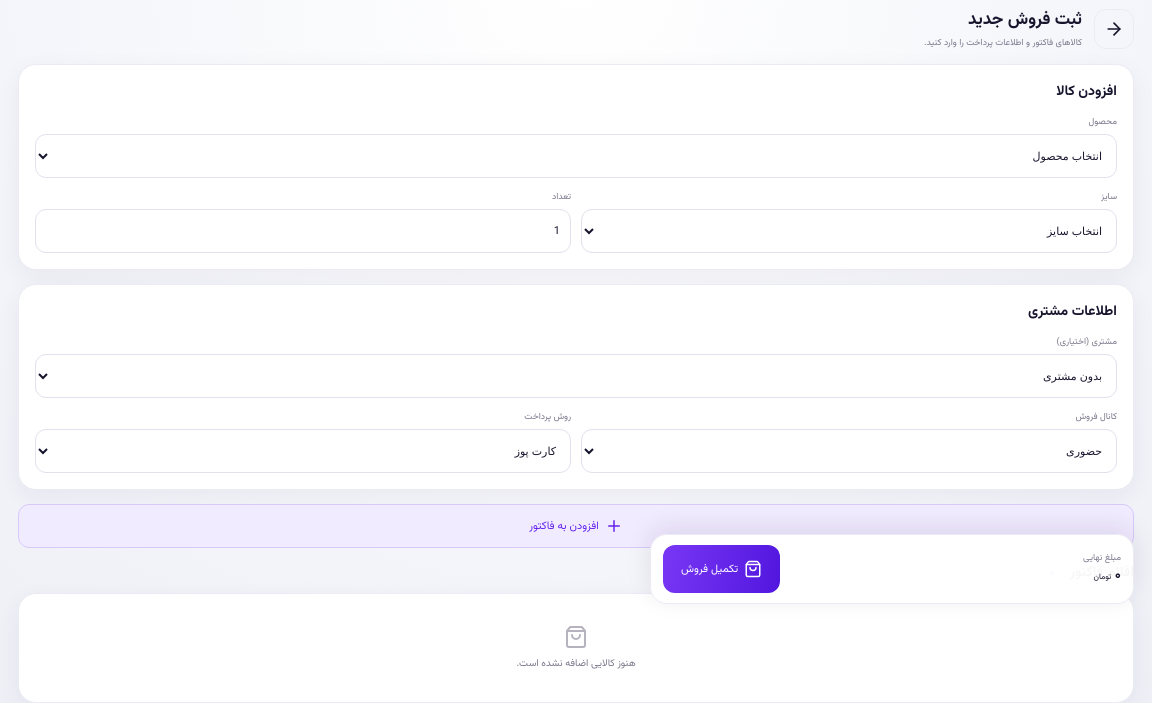
dashboard, sales, and reports UI › shows the entered discount in Persian words
Step 1. Select "Air Max" in the dropdown labelled "محصول" → (576, 156), box [35,134,1117,178]
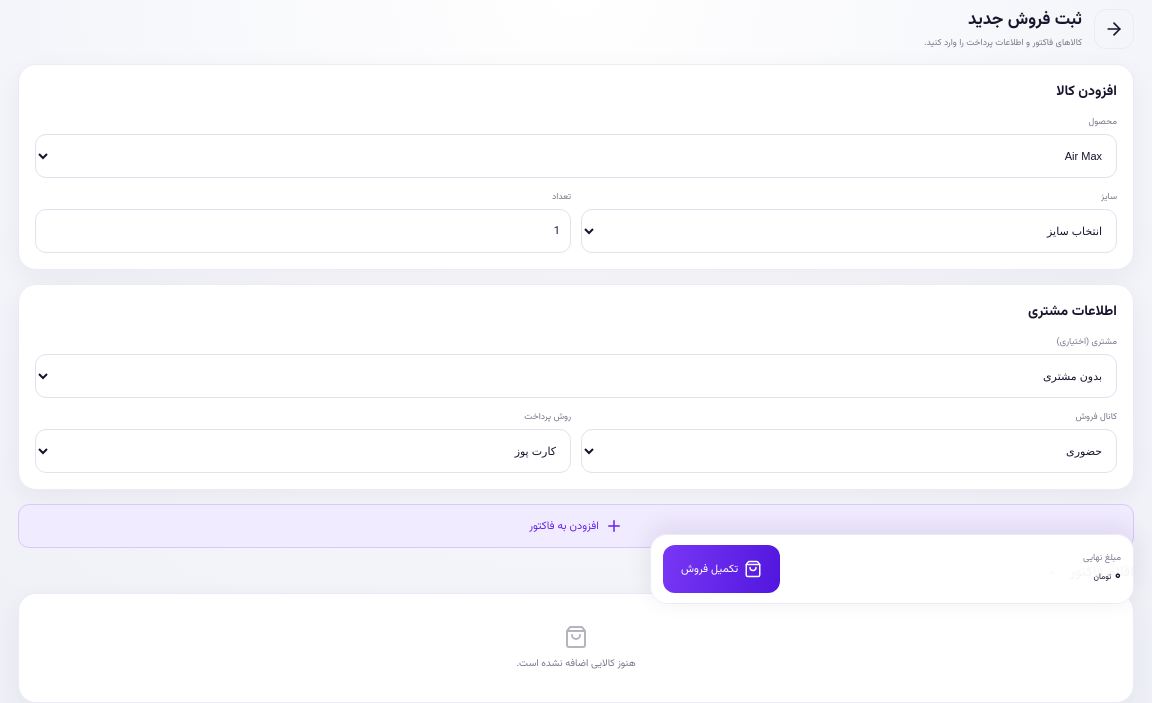
Step 2. Select "40 — موجودی ۲" in the dropdown labelled "سایز" → (849, 231), box [581,209,1117,253]
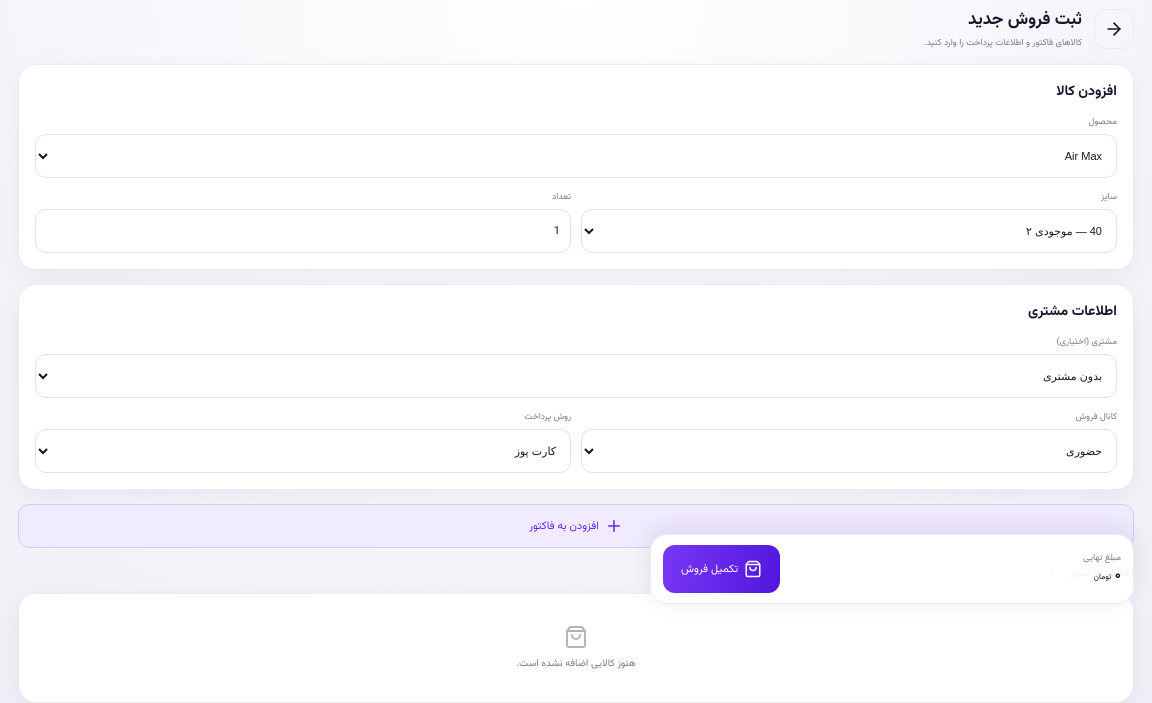
Step 3. Click the button "افزودن به فاکتور" → (576, 526), box [18,504,1134,548]
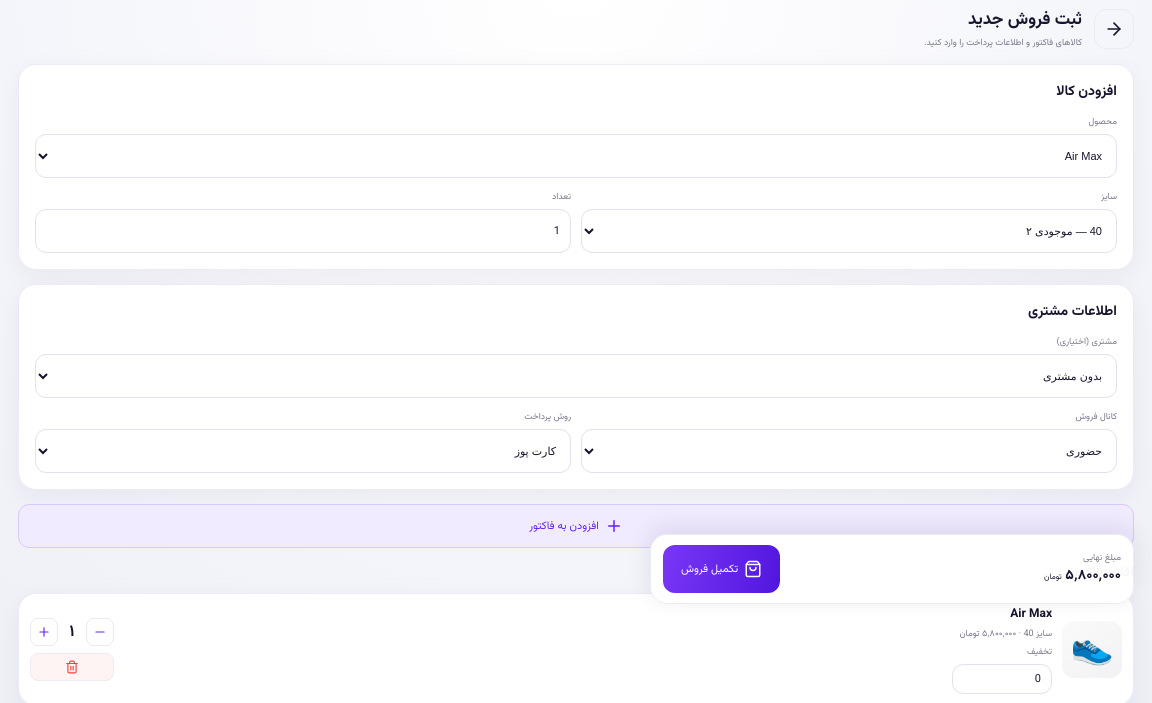
Step 4. Replace the text in the number field labelled "تخفیف" with "1000000" → (1002, 679), box [952,664,1052,694]
(page scrolled)
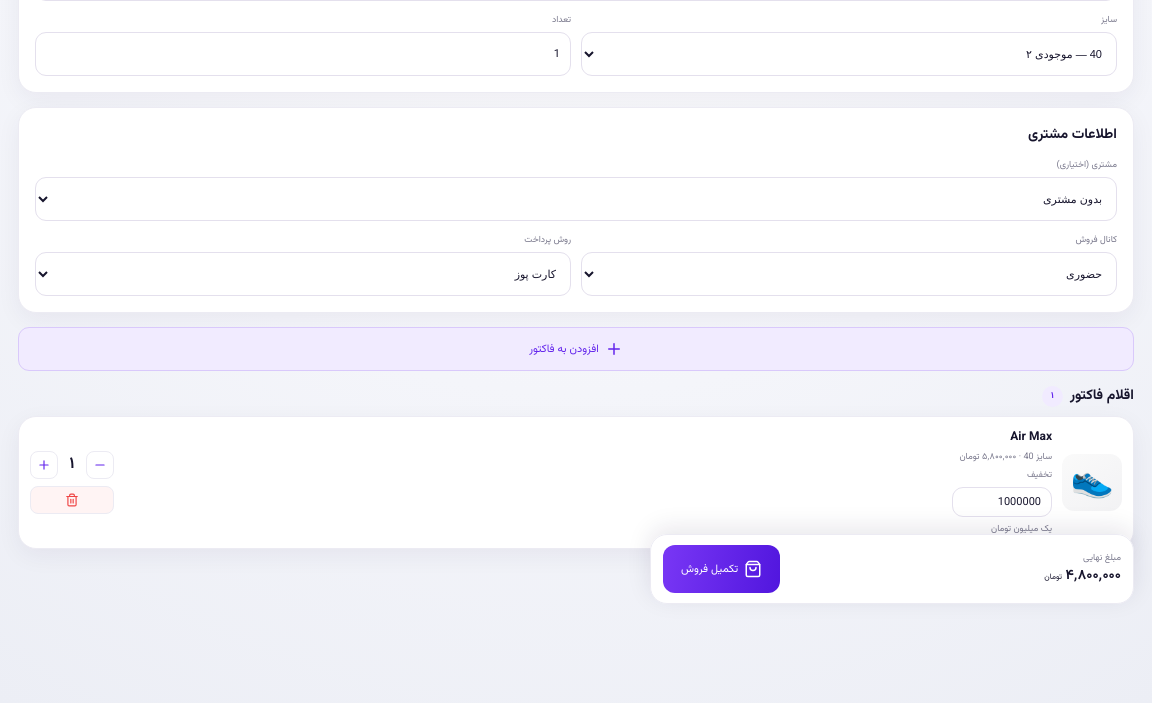
Expected: the text "یک میلیون تومان" is shown, [991,522,1052,536]
